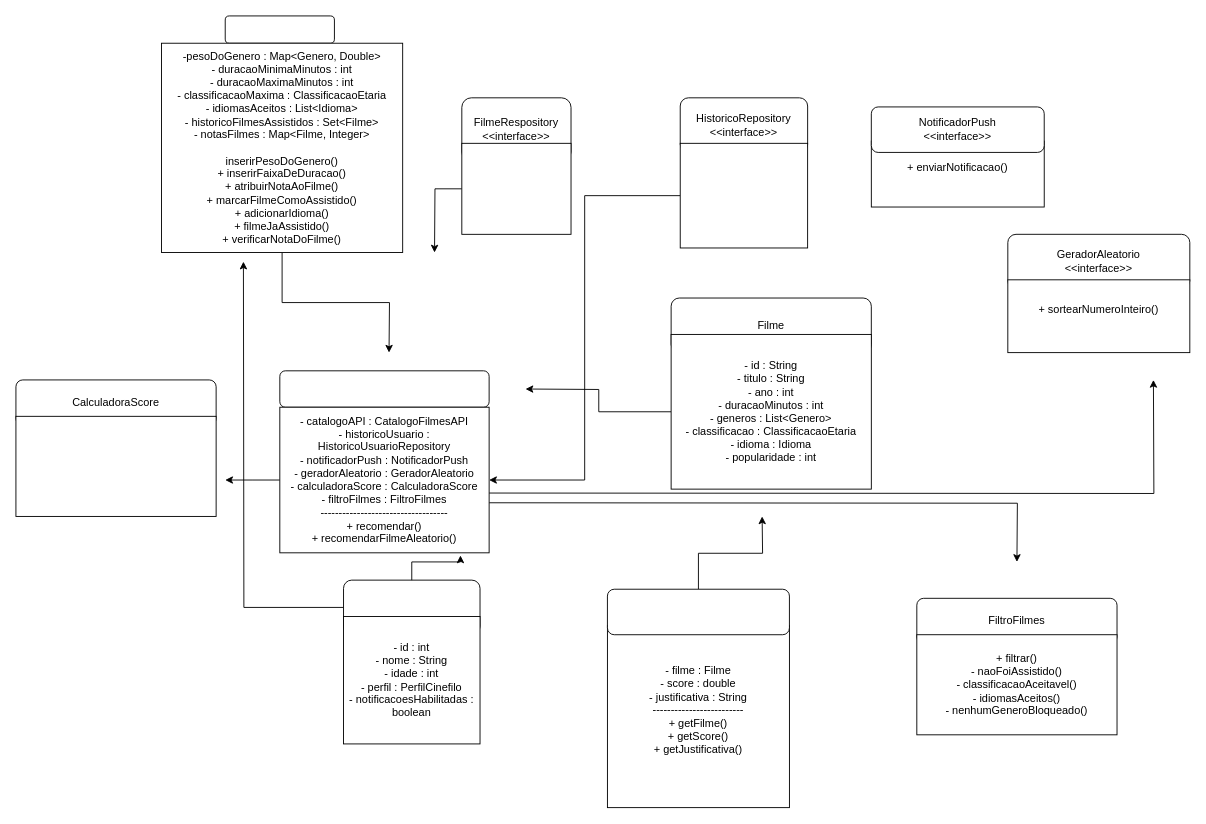
This 1206x824 diagram has some shape labels left out. The box of each missing label's shape, as (x1, y1, x2, y2) in pixels:
+ buscarTodos(): (461, 142, 571, 234)
+ calcularScore(): (15, 415, 216, 516)
+ registrarRecomendacao(): (679, 142, 808, 248)
PerfilCinefilo: (224, 15, 334, 43)
RECOMENDACAO: (607, 588, 789, 635)
RecomendadorService.: (279, 370, 489, 407)
Usuario: (343, 579, 480, 635)
